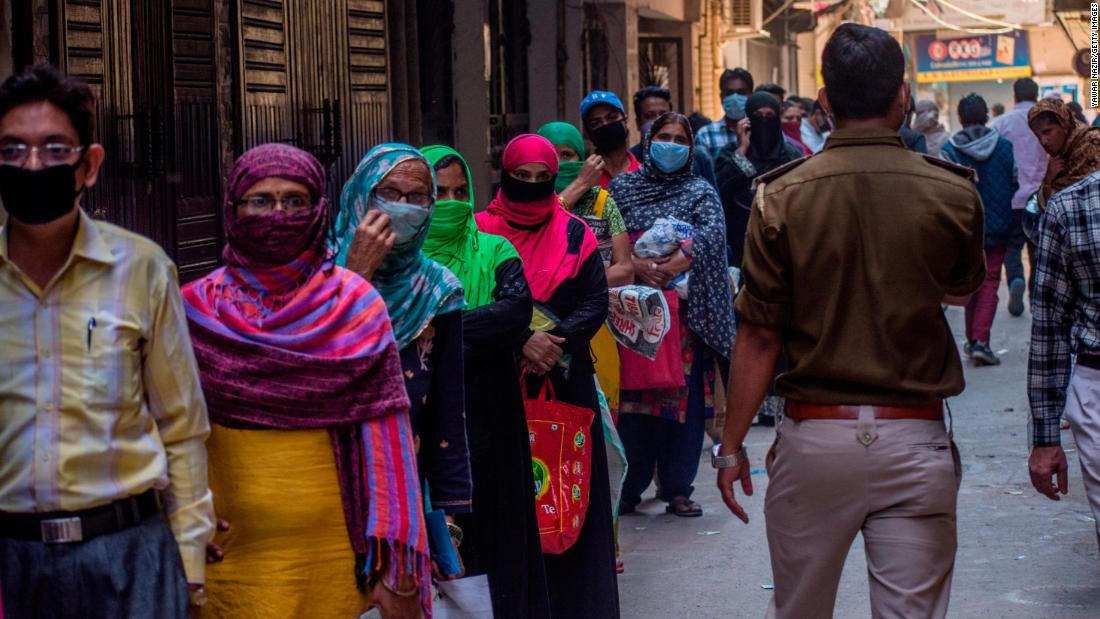mask: (0, 79, 96, 234), (226, 142, 330, 274), (362, 146, 435, 268), (498, 138, 561, 234), (434, 147, 485, 261), (647, 106, 703, 189), (577, 83, 628, 148), (560, 129, 600, 211), (1022, 104, 1077, 159), (740, 94, 781, 145), (631, 90, 681, 130), (716, 66, 751, 114)
